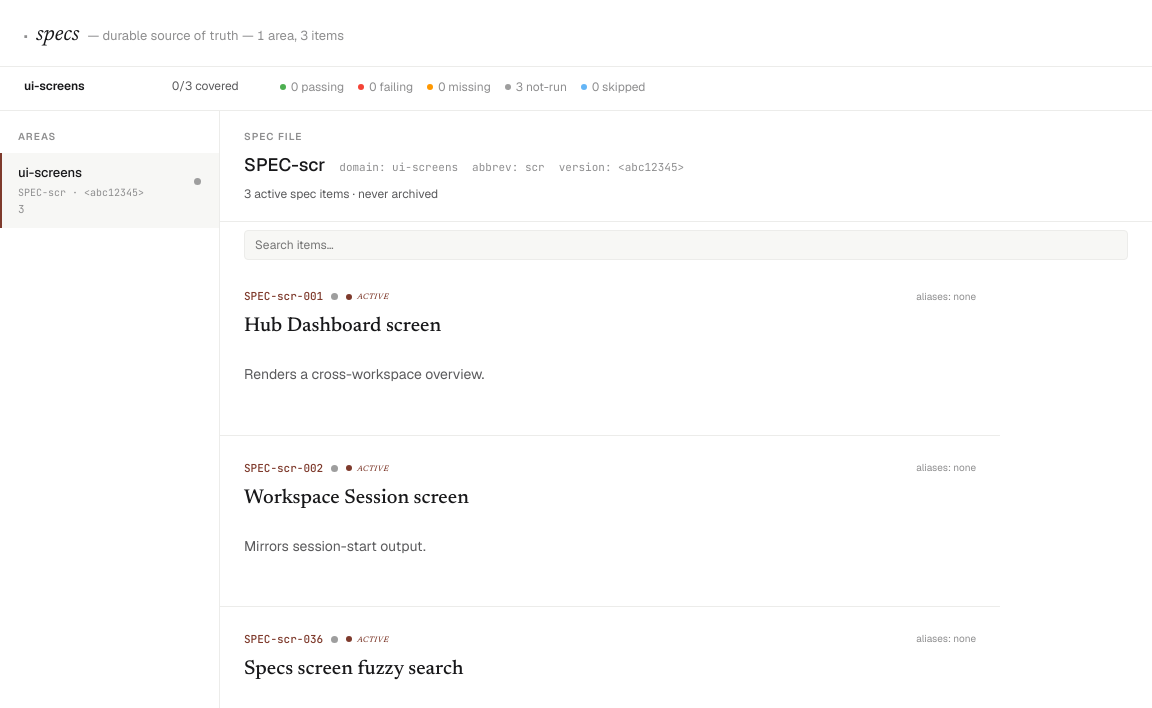
Test: Specs screen item detail view (SPEC-scr-037) › clicking an item replaces the list with the detail view showing that item title
Click the element with class "specs-item" that starts with "SPEC-scr-001" at (610, 350), box 220,264 -> 1000,436
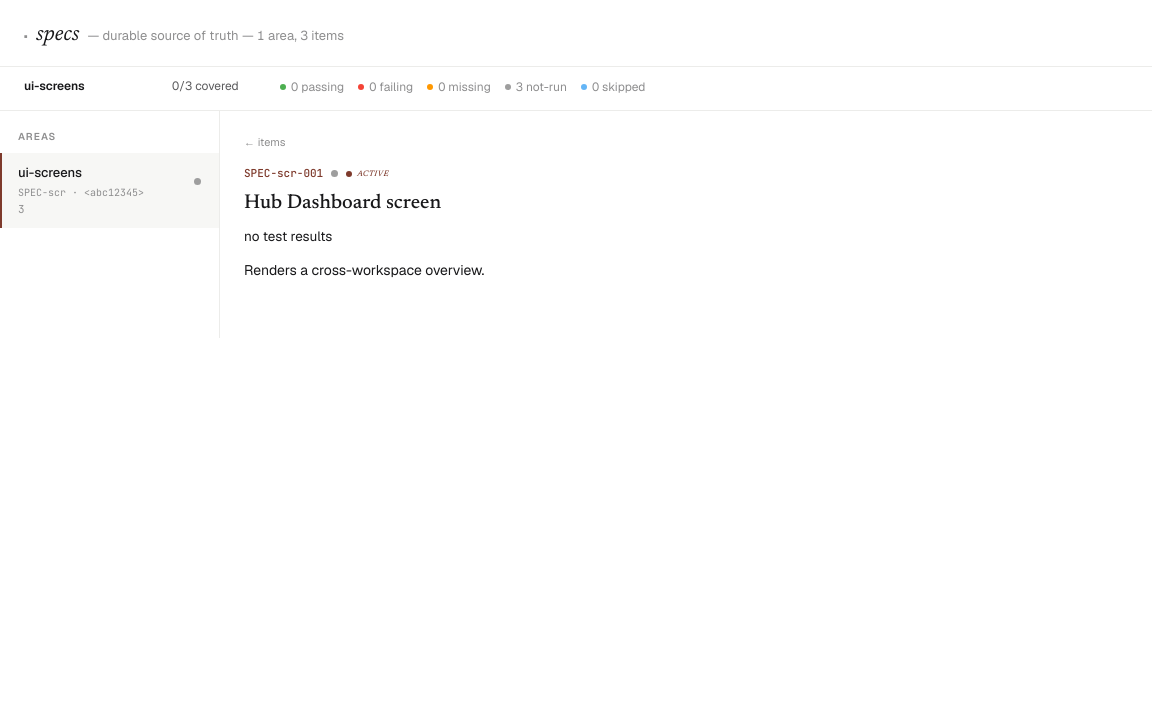
Expected: the heading with class "specs-item__title" reads "Hub Dashboard screen", 244,193 -> 441,213
Expected: the element with class "specs-item" is gone
Expected: the element with class "spec-item-detail" is shown, 244,135 -> 484,279
